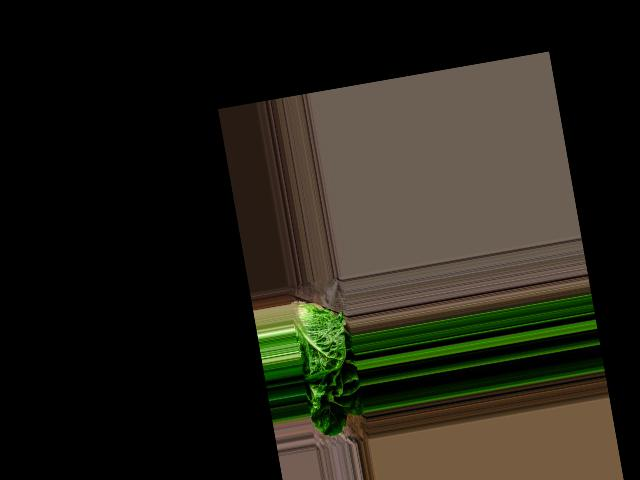lettuce: (291, 296, 367, 431)
